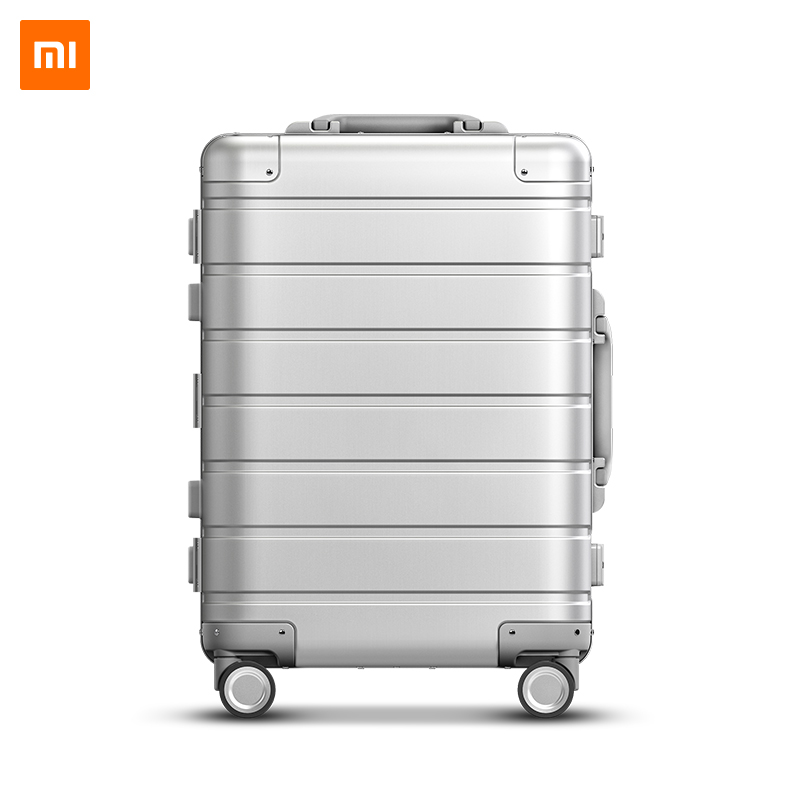box: (201, 135, 593, 666)
handle: (593, 289, 614, 514), (284, 114, 507, 135)
wheel: (517, 660, 575, 719), (219, 661, 276, 719)
